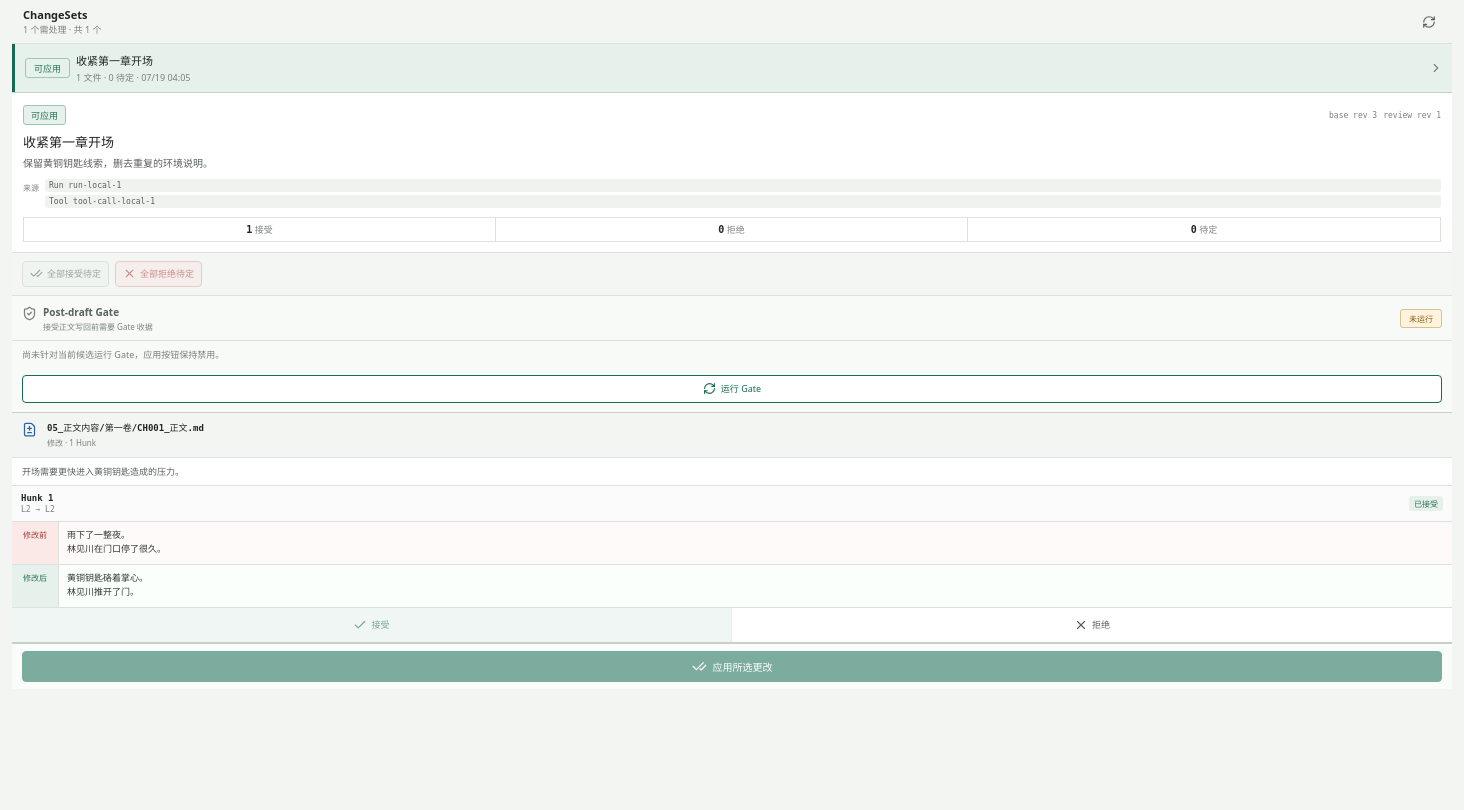
ChangeSetReview › blocks writeback until a current Gate passes, then supports rerunning Gate
Expected: the text "未运行" is shown, [1400,309,1442,328]
Expected: the element named "ChangeSet 来源" shows "Run run-local-1", [23,179,1441,208]
Click the button "运行 Gate" at (732,389), box [22,375,1442,403]
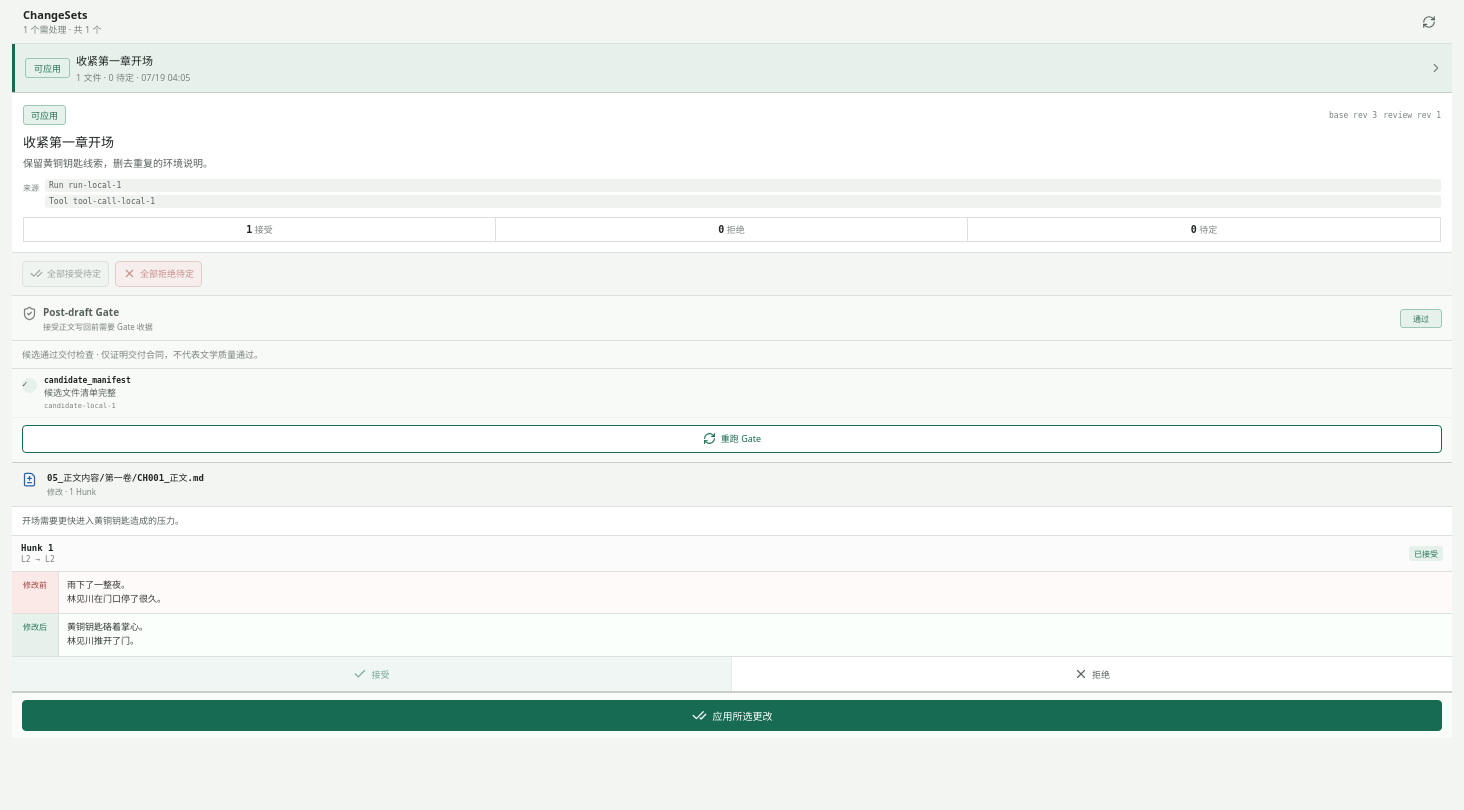
Result: the text "通过" is shown at [1400,309,1442,328]
Result: the button "应用所选更改" is enabled at [22,700,1442,731]
